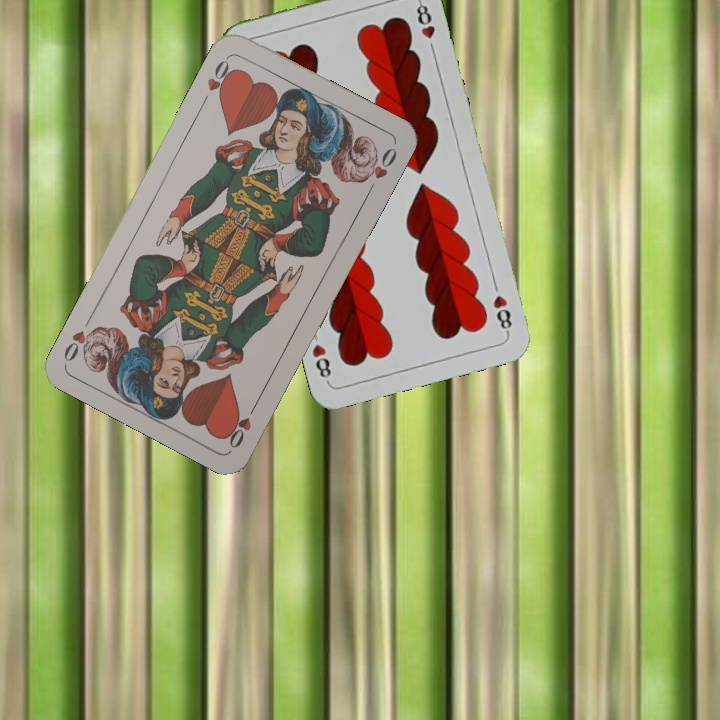H8: (489, 291, 515, 336)
HO: (197, 53, 237, 108), (223, 397, 261, 452)
